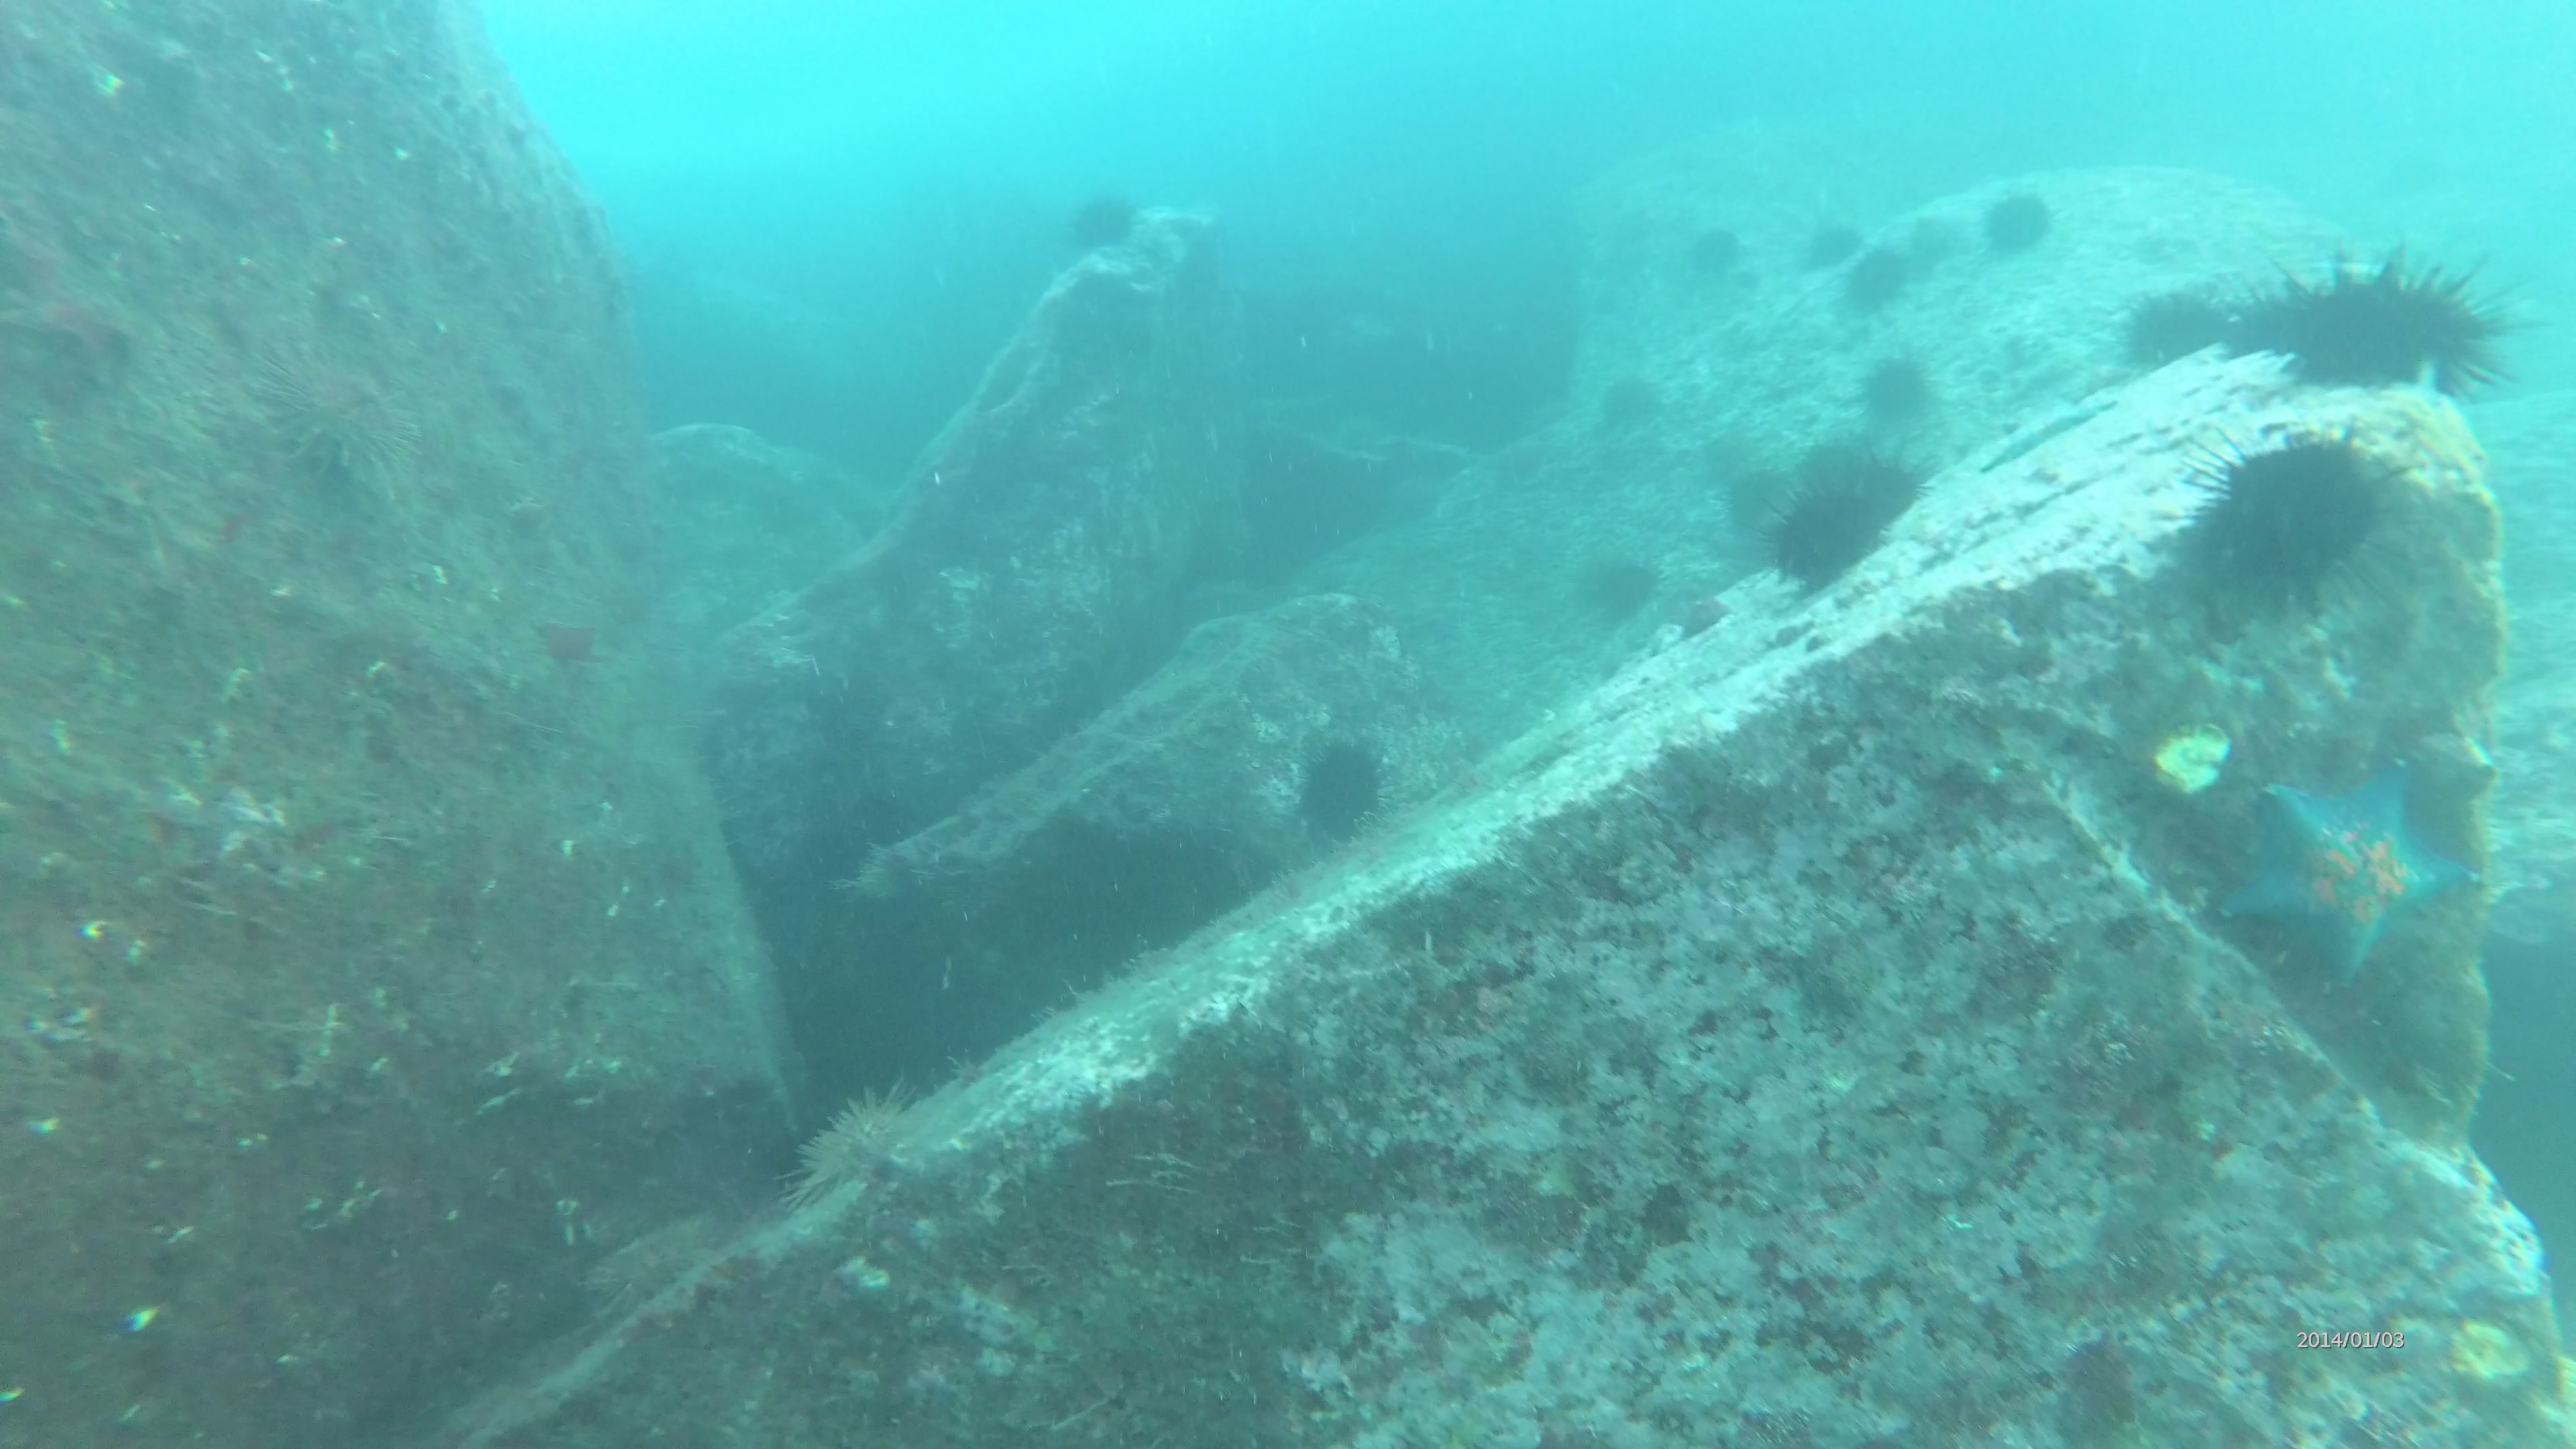echinus: (2282, 242, 2542, 418), (2171, 416, 2410, 605), (255, 336, 426, 502), (1760, 471, 1888, 589), (1283, 732, 1392, 849), (1840, 432, 1944, 536), (2121, 278, 2220, 364), (1065, 173, 1136, 262), (1835, 241, 1920, 311), (1982, 189, 2068, 255), (2233, 278, 2302, 357), (1856, 356, 1927, 425)
starfish: (2219, 747, 2482, 998)
